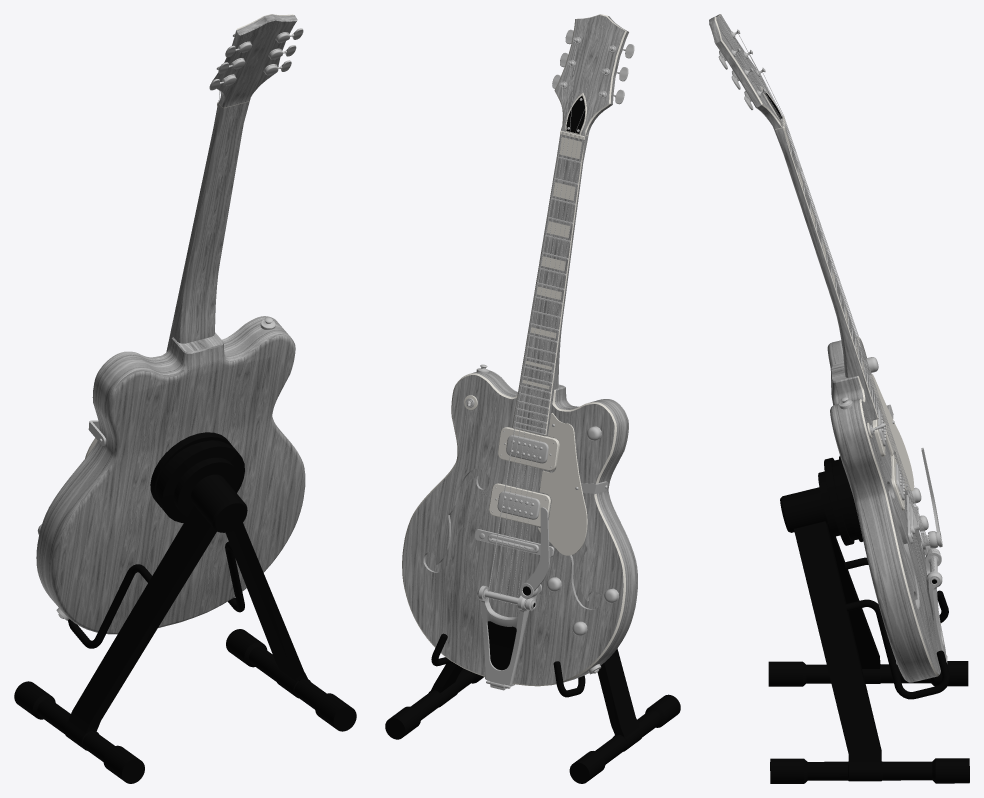
Rendered from Eguitar.glb.
3 renders of one model, left to right at view 1: azimuth 30°, elevation 25°; view 2: azimuth 150°, elevation 25°; view 3: azimuth 270°, elevation 25°, orthographic. The views are drawn at different scales.
Visible parts, largest first — view 1: guitar; view 2: guitar; view 3: guitar.
Boxes of the visible parts, x1,y1,x2,y2 form: guitar: [14, 14, 356, 783]; guitar: [385, 14, 680, 783]; guitar: [709, 14, 969, 783].
Bounding box in the file's own units: 0.9345 × 2.68 × 0.8852.
Materials: 6 (2 with a texture image).
